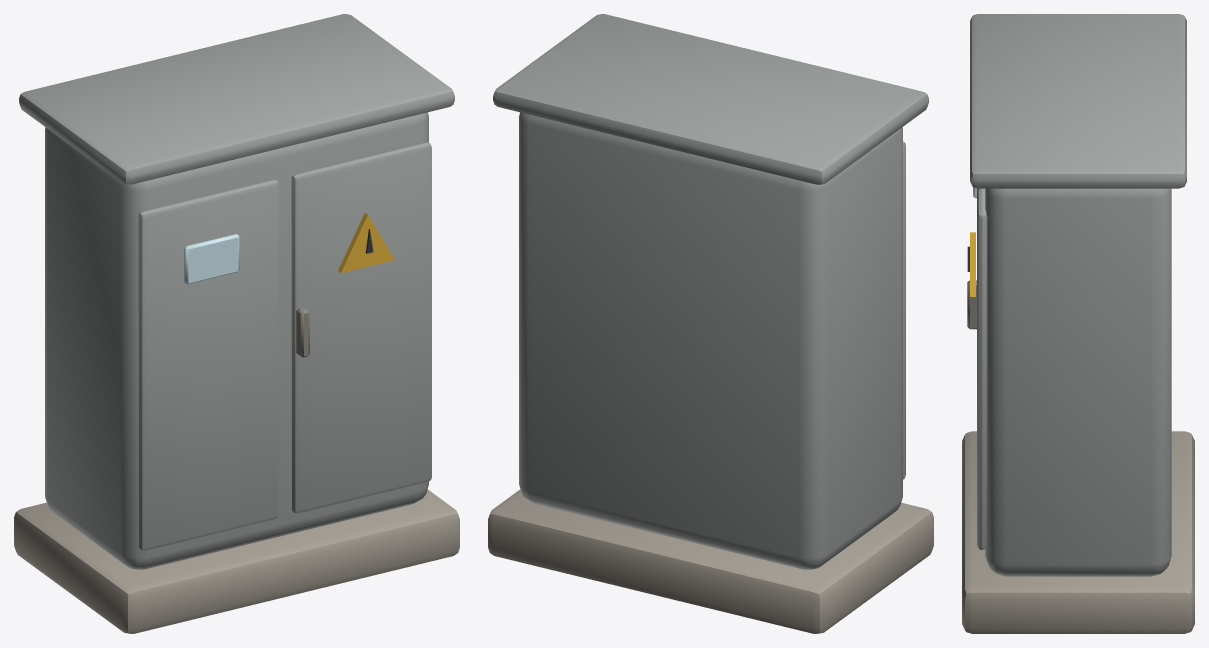
The model's file is mains.glb.
3 views of the same model, side by side, from view 1: azimuth 30°, elevation 25°; view 2: azimuth 150°, elevation 25°; view 3: azimuth 270°, elevation 25° (orthographic).
Parts seen in each view (by area): view 1: utility, stone, glass, hazard, steel_dark; view 2: utility, stone; view 3: utility, stone, hazard, steel_dark.
Boxes of the visible parts, x1,y1,x2,y2 form: utility: (19,14,454,569); stone: (14,489,459,633); glass: (184,234,239,284); hazard: (338,213,394,272); steel_dark: (296,307,309,357); utility: (493,14,928,569); stone: (488,489,933,633); utility: (970,14,1186,576); stone: (962,431,1194,633); hazard: (970,232,975,296); steel_dark: (967,280,976,329).
Size of the model in its own units: 0.75 by 0.99 by 0.45.
